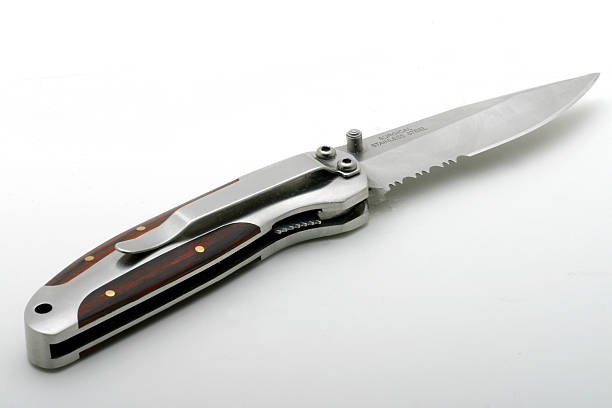knife: (332, 68, 603, 201)
